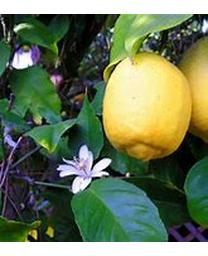lemon: (103, 53, 191, 160)
